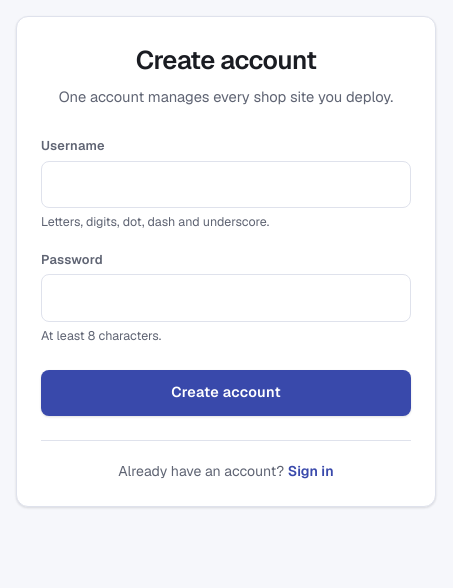
Test: RegisterPage › shows the conflict when the username is taken
Type "shop-owner" into the field labelled "Username" at (226, 184), box [41,161,411,208]
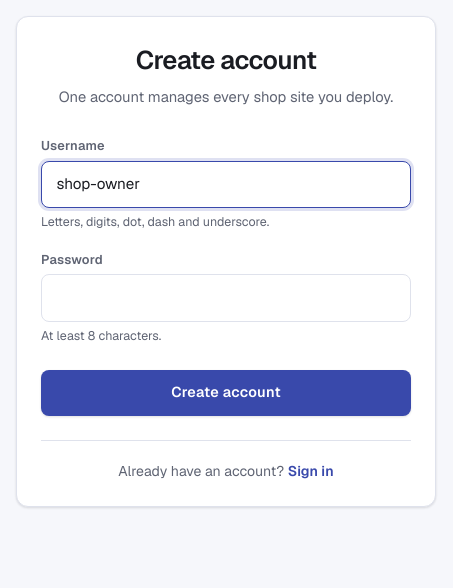
Type "sup3r-secret" into the password field labelled "Password" at (226, 298), box [41,274,411,322]
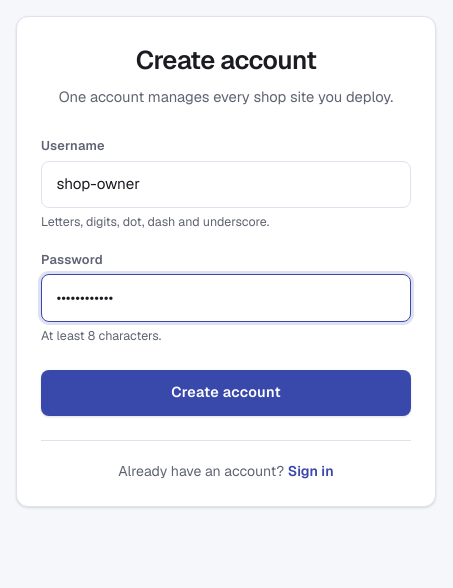
Click the button "Create account" at (226, 393), box [41,370,411,416]
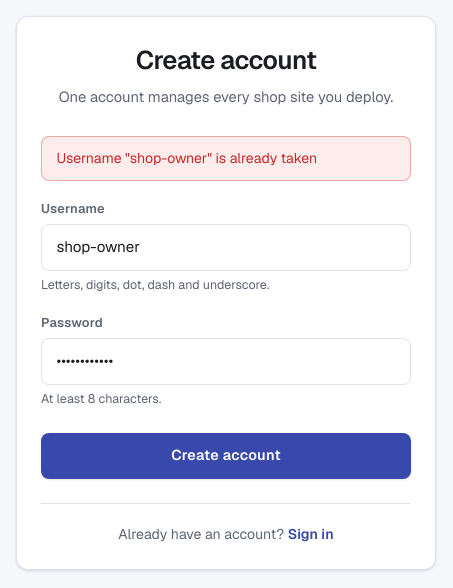
Check: the message reads "Username \"shop-owner\" is already taken", box [56,149,317,167]
